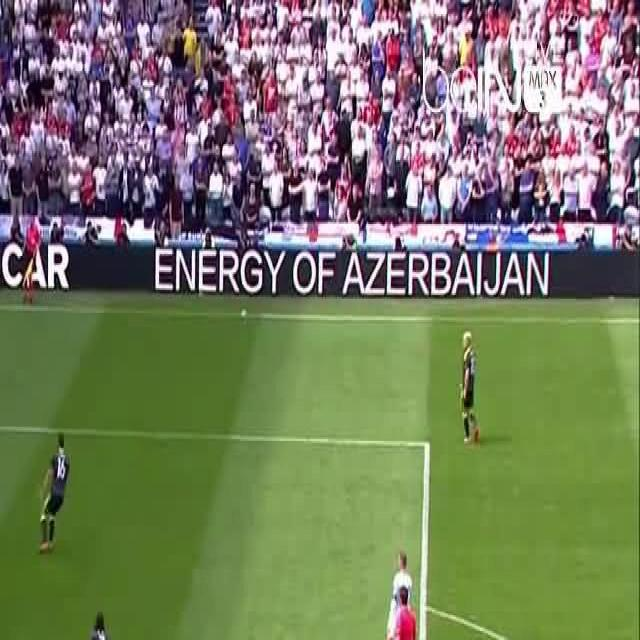player-white: (38, 433, 70, 555), (385, 553, 412, 640), (462, 331, 479, 445), (389, 583, 415, 640), (23, 216, 39, 307), (78, 609, 113, 640)
